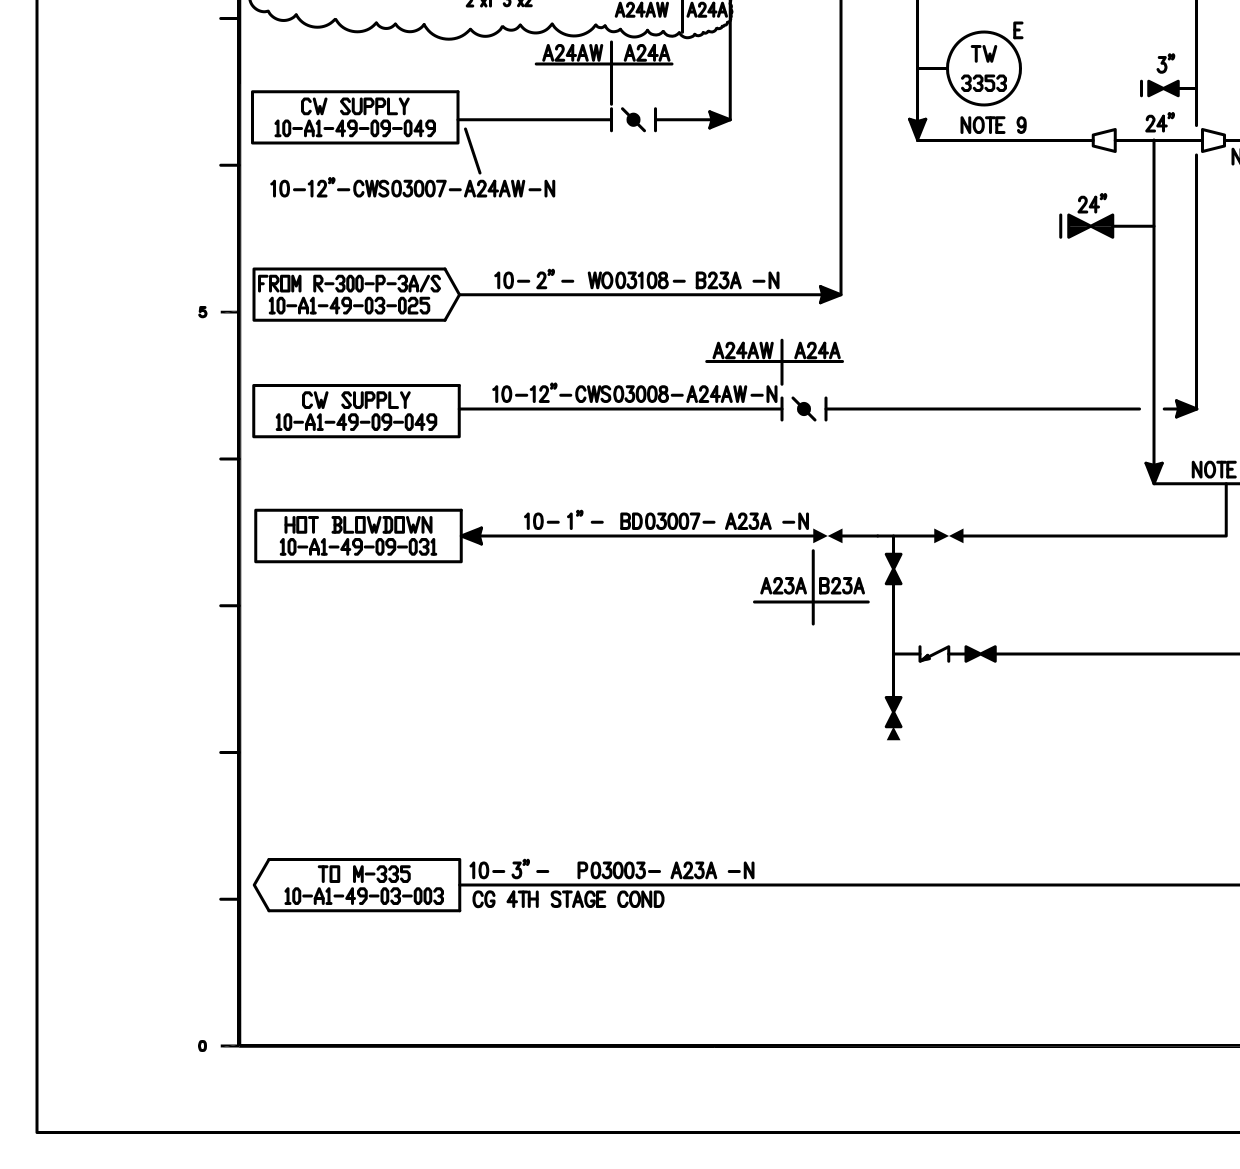Butterfly Valve: (599, 101, 666, 138), (768, 390, 835, 427)
Check Valve: (909, 641, 959, 669)
Instrument Tag: (943, 27, 1029, 108)
Page In: (246, 261, 476, 331)
Page Out: (241, 851, 471, 921)
Reducer: (1084, 125, 1126, 157), (1195, 124, 1237, 156)
